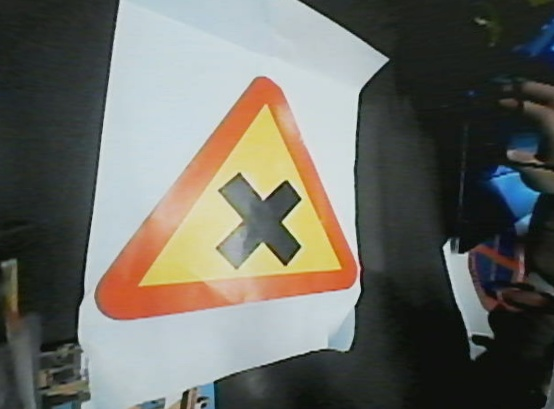junction: (99, 57, 382, 321)
